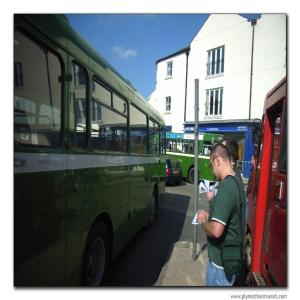Vehicle-registration-plate: (175, 170, 181, 176)
